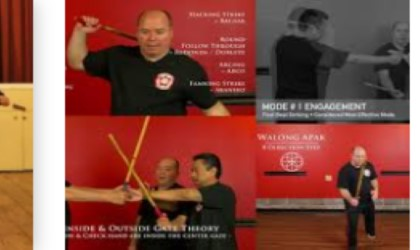baston_e: (107, 138, 165, 217), (114, 120, 157, 187), (94, 16, 136, 42), (353, 163, 363, 199)
baston_v: (70, 12, 86, 27), (103, 128, 115, 141)
